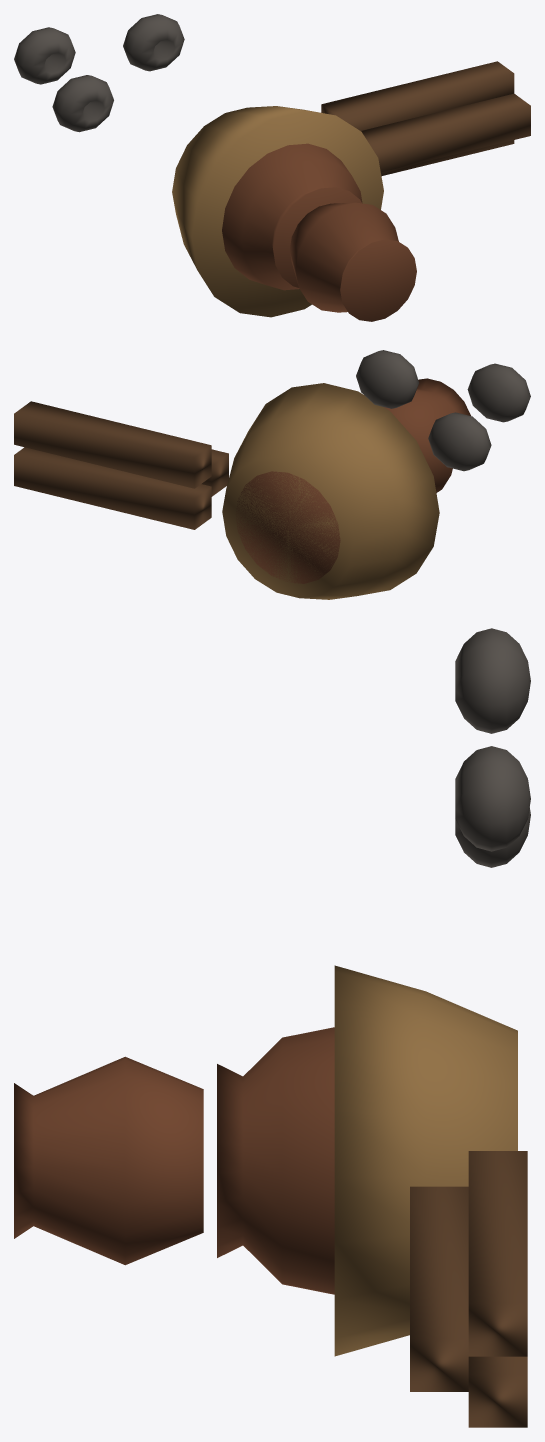
File: KIT_COURTYARD_DRESSING.obj
3 renders of one model, top to bottom at view 1: azimuth 30°, elevation 25°; view 2: azimuth 150°, elevation 25°; view 3: azimuth 270°, elevation 25°, orthographic. The views are drawn at different scales.
Parts seen in each view (by area): view 1: basket_woven, pot_small, pot_large, firewood_log_2, firewood_log_0, hearth_stone_2, hearth_stone_0, hearth_stone_1, firewood_log_1; view 2: basket_woven, firewood_log_0, pot_large, firewood_log_1, pot_small, hearth_stone_0, hearth_stone_2, hearth_stone_1, firewood_log_2; view 3: basket_woven, pot_small, pot_large, firewood_log_0, firewood_log_2, hearth_stone_1, hearth_stone_2, firewood_log_1, hearth_stone_0.
Boxes of the visible parts, x1=… form: basket_woven: x1=172, y1=106, x2=383, y2=317; pot_small: x1=289, y1=202, x2=416, y2=321; pot_large: x1=222, y1=143, x2=362, y2=290; firewood_log_2: x1=361, y1=93, x2=530, y2=172; firewood_log_0: x1=321, y1=61, x2=514, y2=130; hearth_stone_2: x1=14, y1=27, x2=75, y2=84; hearth_stone_0: x1=52, y1=75, x2=113, y2=132; hearth_stone_1: x1=123, y1=14, x2=184, y2=71; firewood_log_1: x1=381, y1=140, x2=514, y2=176; basket_woven: x1=222, y1=383, x2=439, y2=599; firewood_log_0: x1=14, y1=401, x2=211, y2=488; pot_large: x1=236, y1=471, x2=340, y2=583; firewood_log_1: x1=14, y1=447, x2=211, y2=529; pot_small: x1=384, y1=378, x2=470, y2=492; hearth_stone_0: x1=428, y1=412, x2=491, y2=471; hearth_stone_2: x1=467, y1=363, x2=530, y2=422; hearth_stone_1: x1=356, y1=350, x2=418, y2=408; firewood_log_2: x1=202, y1=449, x2=228, y2=496; basket_woven: x1=334, y1=965, x2=517, y2=1356; pot_small: x1=14, y1=1056, x2=203, y2=1265; pot_large: x1=217, y1=1027, x2=334, y2=1294; firewood_log_0: x1=468, y1=1151, x2=527, y2=1356; firewood_log_2: x1=410, y1=1186, x2=468, y2=1391; hearth_stone_1: x1=455, y1=746, x2=530, y2=851; hearth_stone_2: x1=455, y1=628, x2=530, y2=733; firewood_log_1: x1=468, y1=1356, x2=527, y2=1427; hearth_stone_0: x1=455, y1=807, x2=530, y2=867.
Size of the model in its own units: 1.53 by 0.8915 by 0.79.
